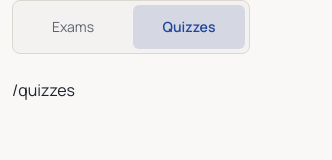
Test: shared Practice Library navigation › keeps existing direct routes and selects the correct view (tutor=false)
The width and height of the screenshot is (332, 160).
Click the button "Exams" at (73, 27), box [17,5,129,49]
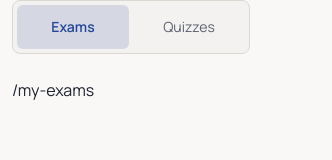
Now the text named "path" reads "/my-exams", box [12,79,94,101]
